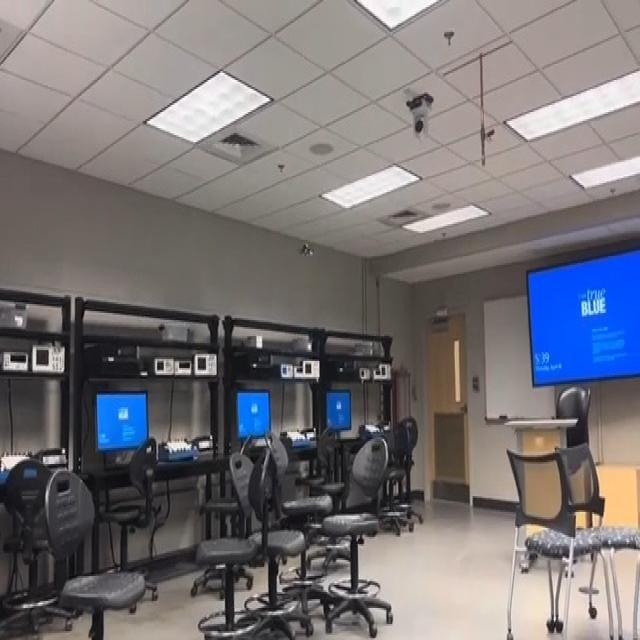drone: (291, 228, 320, 266)
